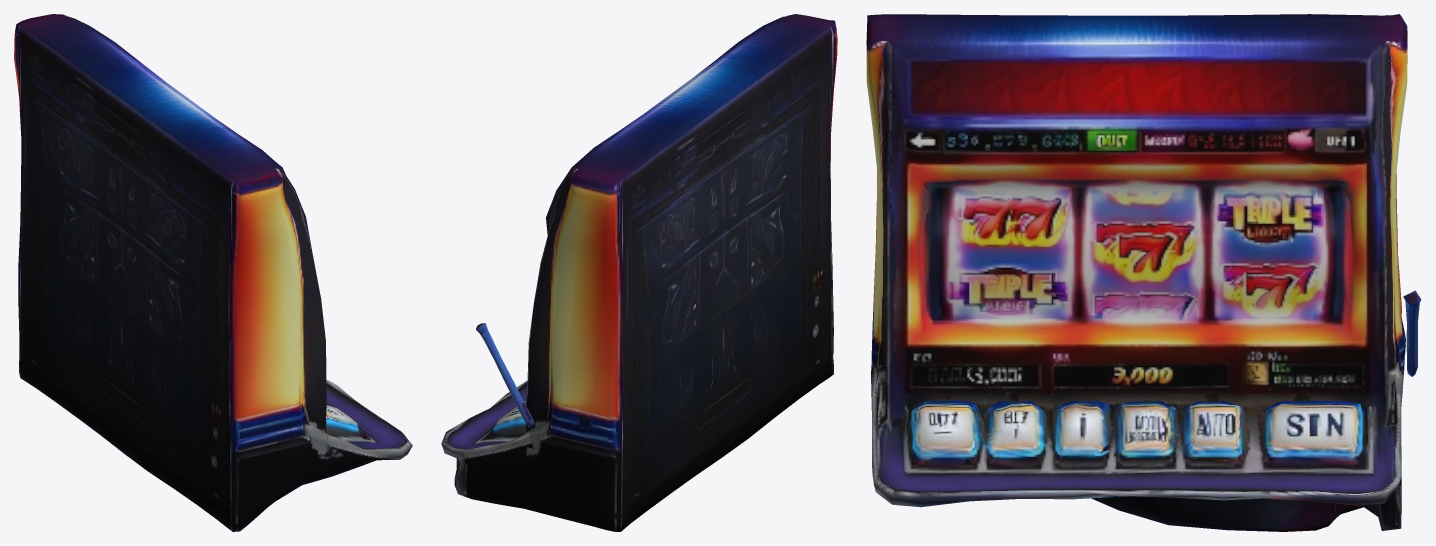
The model's file is tripo_convert_462894ea-e5ec-457f-a6ec-d484756e0e03.fbx.
3 views of the same model, side by side, from view 1: azimuth 30°, elevation 25°; view 2: azimuth 150°, elevation 25°; view 3: azimuth 270°, elevation 25° (orthographic). The views are drawn at different scales.
Parts seen in each view (by area): view 1: tripo_node_462894ea; view 2: tripo_node_462894ea; view 3: tripo_node_462894ea.
Boxes of the visible parts, left/top/right/bottom form: tripo_node_462894ea: left=14, top=14, right=412, bottom=531; tripo_node_462894ea: left=441, top=14, right=837, bottom=531; tripo_node_462894ea: left=866, top=14, right=1421, bottom=531.
Bounding box in the file's own units: 0.4741 × 0.8436 × 0.9955.
Materials: 1 (1 with a texture image).
